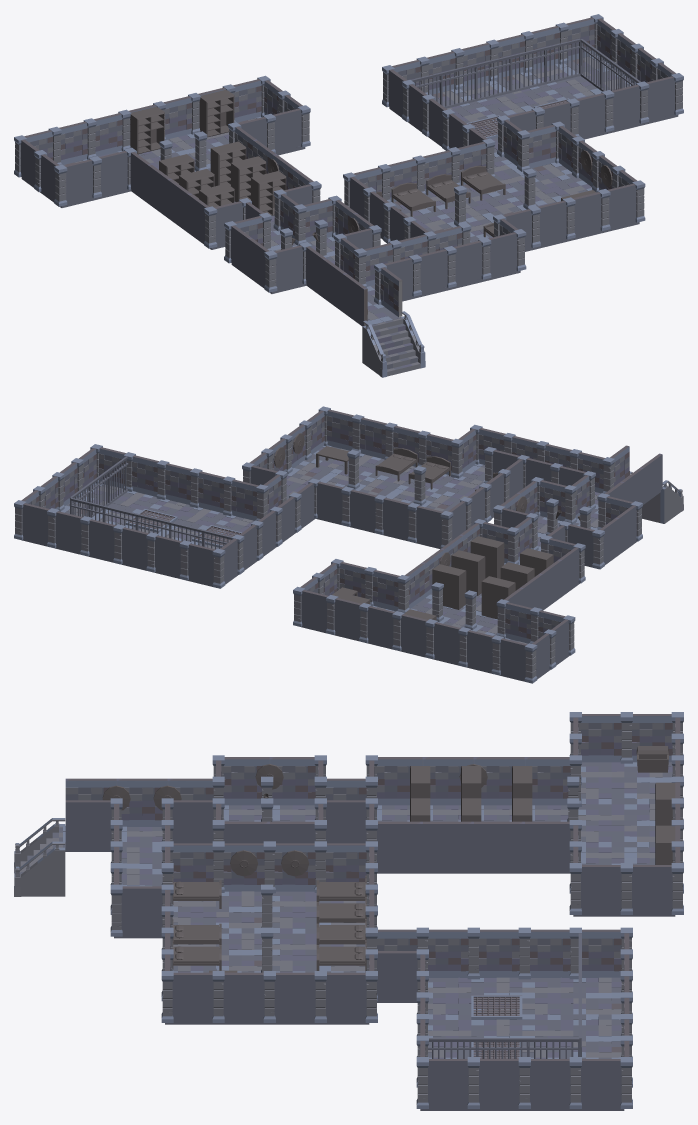
File: SampleDonjon1.fbx
3 views of the same model, one above another, from view 1: azimuth 30°, elevation 25°; view 2: azimuth 150°, elevation 25°; view 3: azimuth 270°, elevation 25° (orthographic). The views are drawn at different scales.
Visible parts, largest first — view 1: Bouclier.010, Stair_Full.002, Sol1_2x2.010, Sol1_2x2.006, Sol1_2x2.012, MurPilier.024, MurPilier.017, MurPilier.036, MurPilier.002, Sol1_2x2.004, MurPilier.013, MurPilier.005 (+68 smaller); view 2: Bouclier.010, MurPilier.001, MurPilier.008, MurPilier.028, MurPilier.030, MurPilier.004, MurPilier.002, MurPilier.029, MurPilier.031, MurPilier.006, MurPilier.037, Sol1_2x2.009 (+80 smaller); view 3: Bouclier.010, Sol1_2x2.008, Stair_Full.002, Sol1_2x2.013, Sol1_2x2.015, Sol1_2x2.010, MurPilier.034, MurPilier.007, MurPilier.023, MurPilier.033, MurPilier.022, MurPilier.032 (+64 smaller).
Part boxes in pixels (x1,y1,x2,y2): Bouclier.010: (130, 89, 612, 245); Stair_Full.002: (362, 311, 425, 377); Sol1_2x2.010: (461, 72, 565, 116); Sol1_2x2.006: (495, 162, 592, 205); Sol1_2x2.012: (530, 55, 630, 99); MurPilier.024: (562, 189, 610, 239); MurPilier.017: (443, 237, 491, 288); MurPilier.036: (601, 81, 649, 132); MurPilier.002: (83, 109, 131, 159); Sol1_2x2.004: (426, 184, 525, 222); MurPilier.013: (264, 242, 312, 292); MurPilier.005: (89, 147, 136, 198); Bouclier.010: (274, 433, 580, 620); MurPilier.001: (491, 635, 537, 683); MurPilier.008: (364, 567, 409, 612); MurPilier.028: (374, 494, 419, 542); MurPilier.030: (146, 532, 191, 580); MurPilier.004: (359, 603, 404, 651); MurPilier.002: (425, 619, 470, 667); MurPilier.029: (80, 516, 125, 564); MurPilier.031: (14, 500, 59, 548); MurPilier.006: (293, 586, 338, 634); MurPilier.037: (189, 468, 235, 516); Sol1_2x2.009: (133, 499, 226, 540); Bouclier.010: (102, 746, 675, 972); Sol1_2x2.008: (522, 977, 621, 1019); Stair_Full.002: (14, 818, 65, 896); Sol1_2x2.013: (578, 804, 655, 847); Sol1_2x2.015: (581, 762, 672, 804); Sol1_2x2.010: (522, 1019, 621, 1058); MurPilier.034: (467, 927, 530, 979); MurPilier.007: (569, 863, 632, 914); MurPilier.023: (161, 971, 224, 1022); MurPilier.033: (416, 1057, 479, 1108); MurPilier.022: (263, 971, 326, 1022); MurPilier.032: (518, 1057, 581, 1108).
Size of the model in its own units: 3248 by 403 by 2626.
